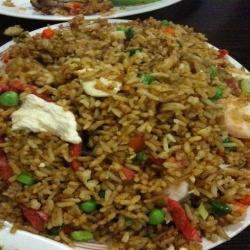rice: (7, 30, 234, 229)
